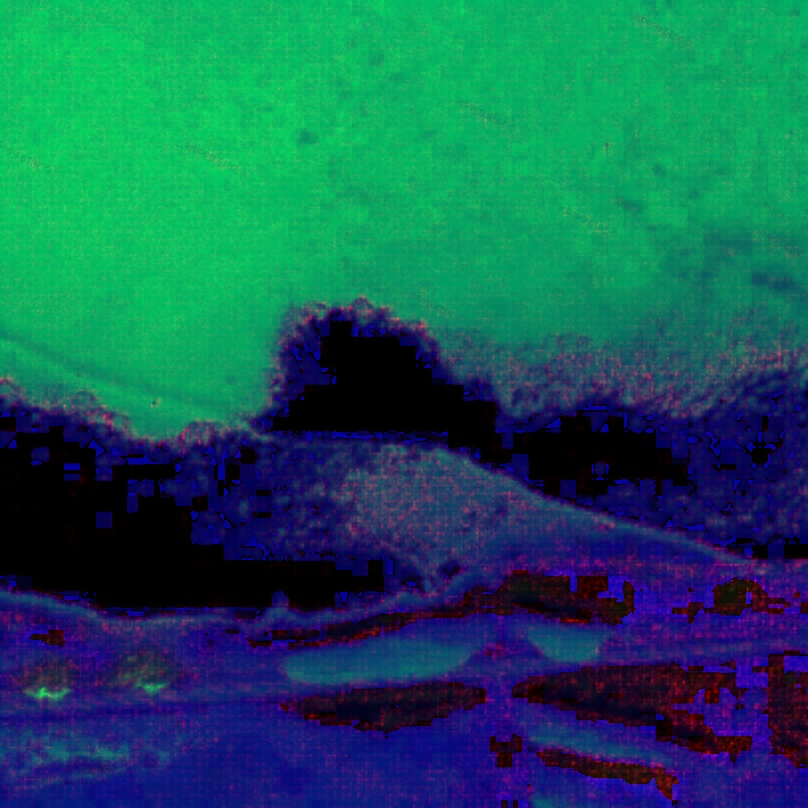rip_current: (221, 393, 530, 571)
